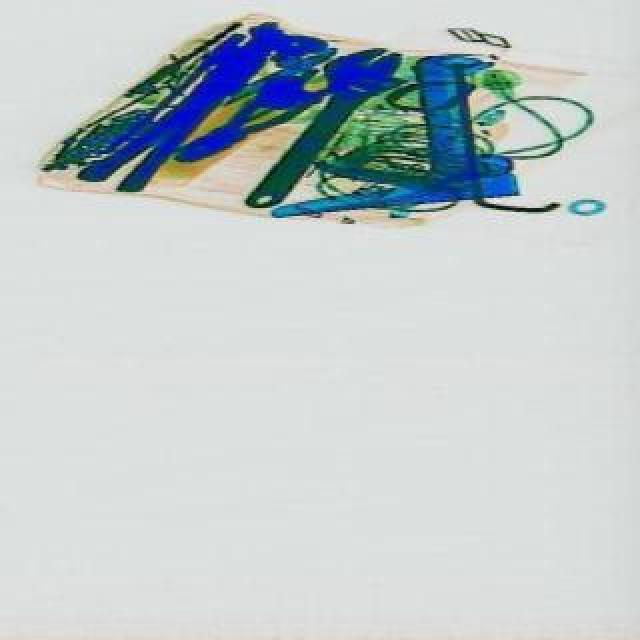knife: (256, 48, 524, 224)
scissors: (232, 30, 424, 238)
wrench: (176, 64, 346, 184)
